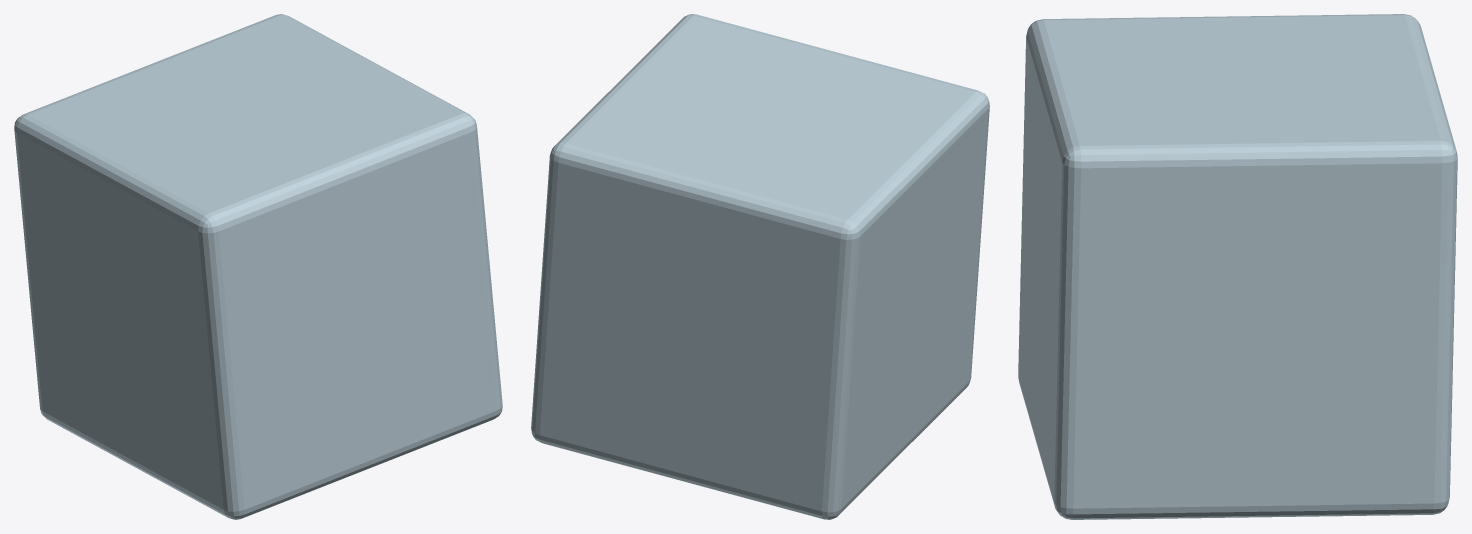
The model's file is glass_cubes_design_circuit.glb.
3 views of the same model, side by side, from view 1: azimuth 30°, elevation 25°; view 2: azimuth 150°, elevation 25°; view 3: azimuth 270°, elevation 25° (orthographic). The views are drawn at different scales.
Parts seen in each view (by area): view 1: GlassCube_Circuit; view 2: GlassCube_Circuit; view 3: GlassCube_Circuit.
Part boxes in pixels (x1=…): GlassCube_Circuit: x1=14, y1=14, x2=502, y2=519; GlassCube_Circuit: x1=531, y1=14, x2=989, y2=519; GlassCube_Circuit: x1=1018, y1=14, x2=1457, y2=519.
Bounding box in the file's own units: 2.77 × 2.63 × 2.65.
